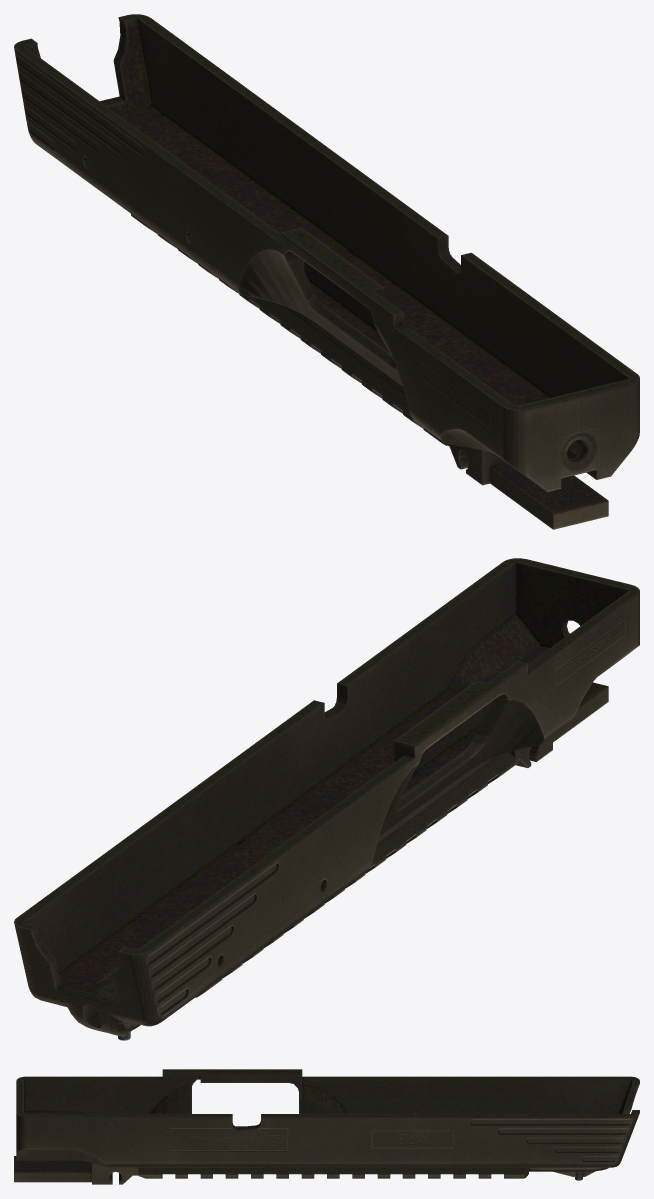
3 renders of one model, top to bottom at view 1: azimuth 30°, elevation 25°; view 2: azimuth 150°, elevation 25°; view 3: azimuth 270°, elevation 25°, orthographic. The views are drawn at different scales.
Visible parts, largest first — view 1: TW_5e0090f7e9dc277128008b93_PZ_Import; view 2: TW_5e0090f7e9dc277128008b93_PZ_Import; view 3: TW_5e0090f7e9dc277128008b93_PZ_Import.
Part boxes in pixels (x1,y1,x2,y2): TW_5e0090f7e9dc277128008b93_PZ_Import: (14,14,639,529); TW_5e0090f7e9dc277128008b93_PZ_Import: (14,558,639,1040); TW_5e0090f7e9dc277128008b93_PZ_Import: (14,1069,639,1184).
Bounding box in the file's own units: 0.022 × 0.1431 × 0.0226.
Materials: 1 (1 with a texture image).
